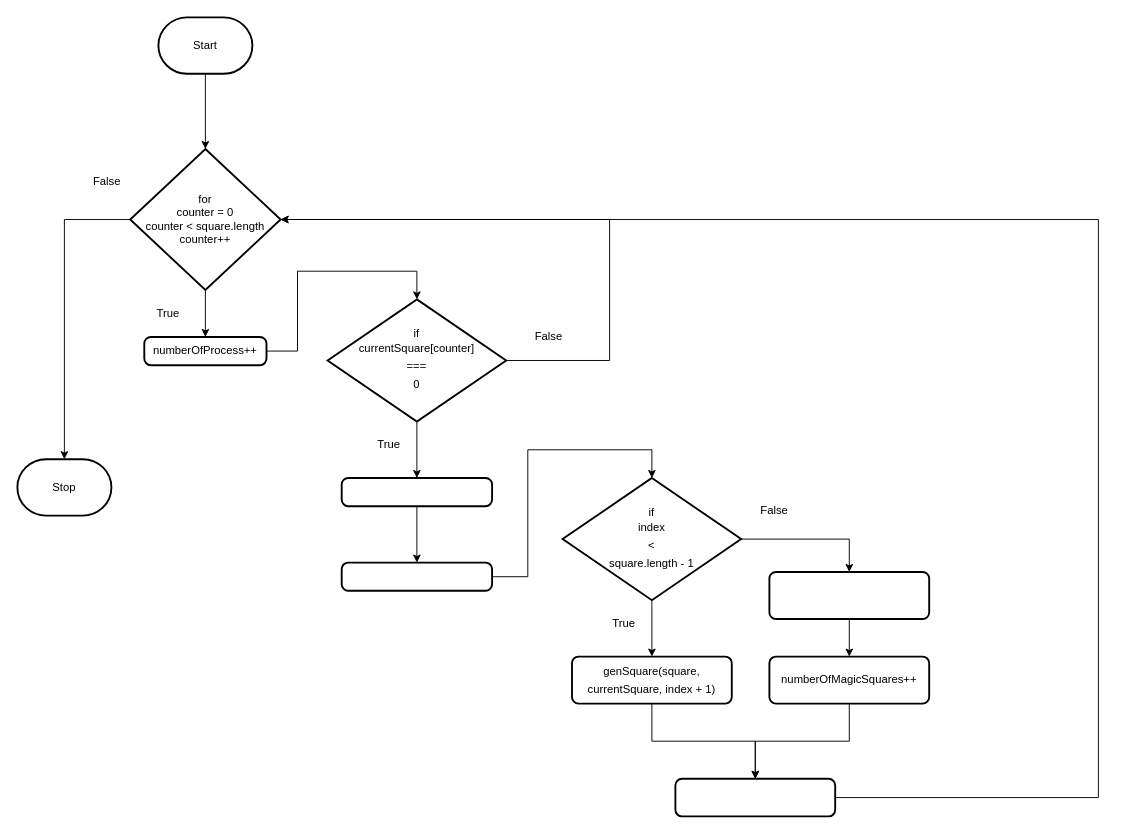
Image size: 1122x833. Some labels were removed from this diagram. The centre of each missing label's shape, as x and y in pixels:
currentSquare[counter] = 0: pixel 755 797
currentSquare[counter] = 1: pixel 416 576
genSquare(square): pixel 849 595
square[index] = counter + 1: pixel 416 492
